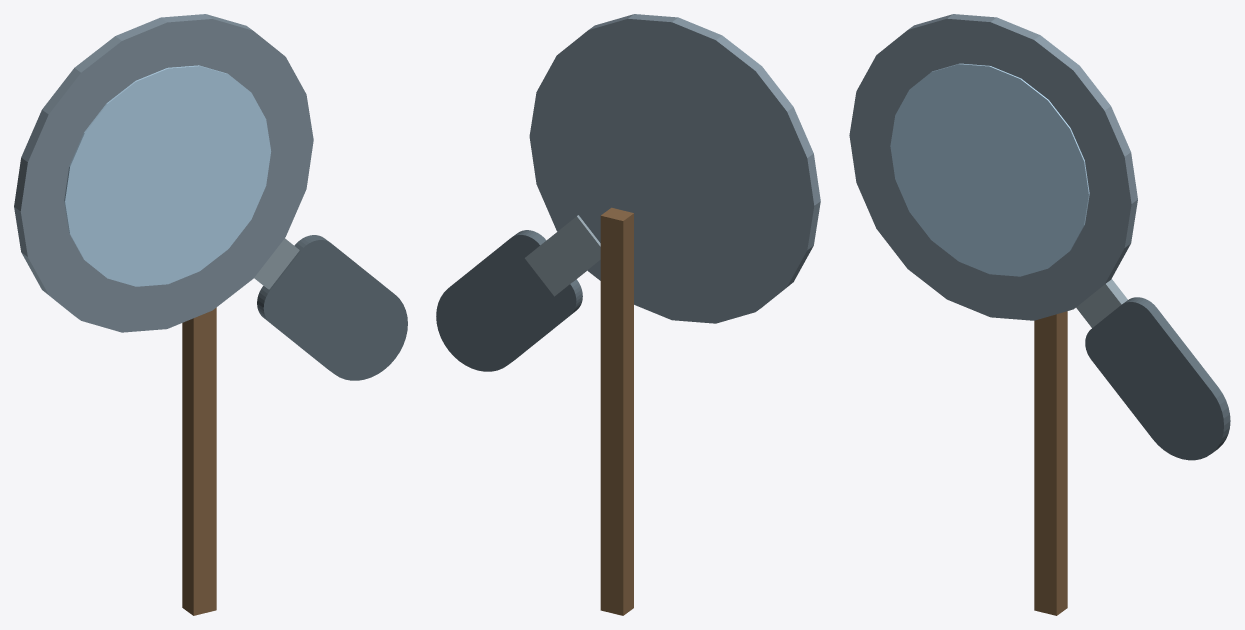
Rendered from loupe.glb.
The picture shows the model from 3 angles, left to right: view 1: azimuth 30°, elevation 25°; view 2: azimuth 150°, elevation 25°; view 3: azimuth 330°, elevation 25°; orthographic projection. The views are drawn at different scales.
Bounding box in the file's own units: 1 × 1.5 × 0.097.
